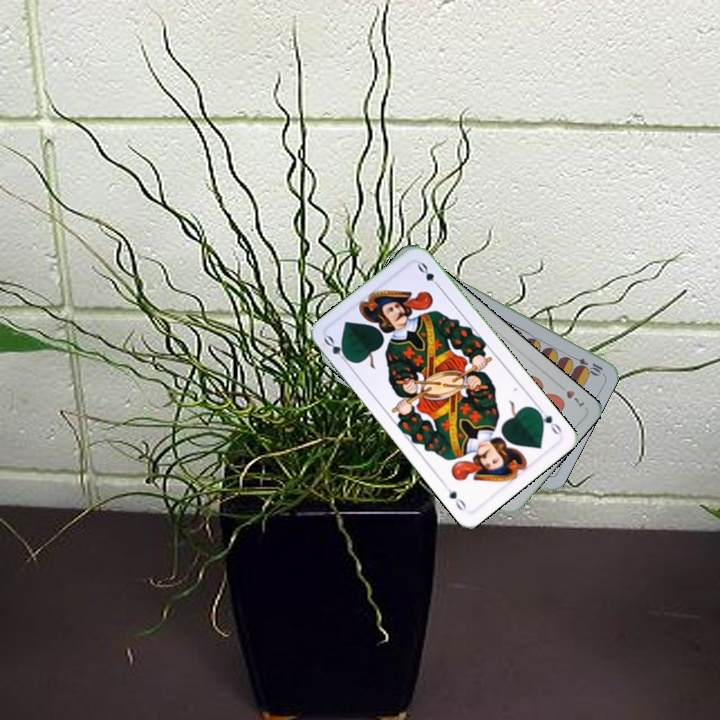E10: (566, 352, 605, 377)
GO: (320, 331, 353, 367), (532, 405, 564, 437)
H7: (553, 379, 587, 409)
